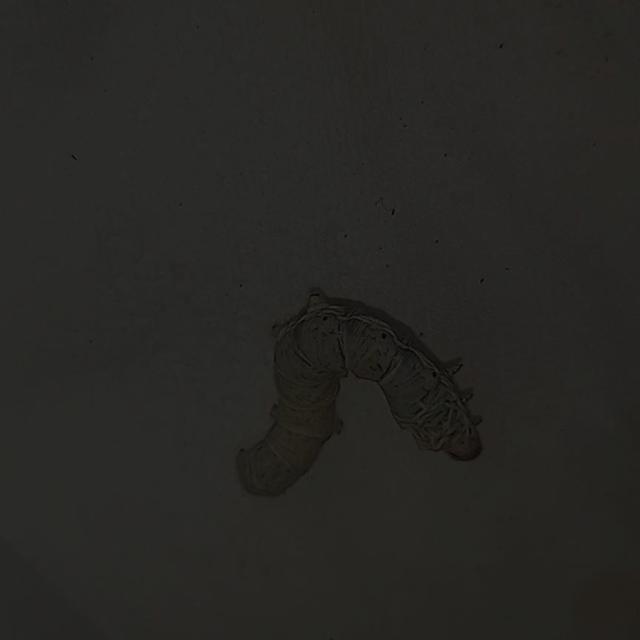Healthy: (226, 283, 484, 501)
